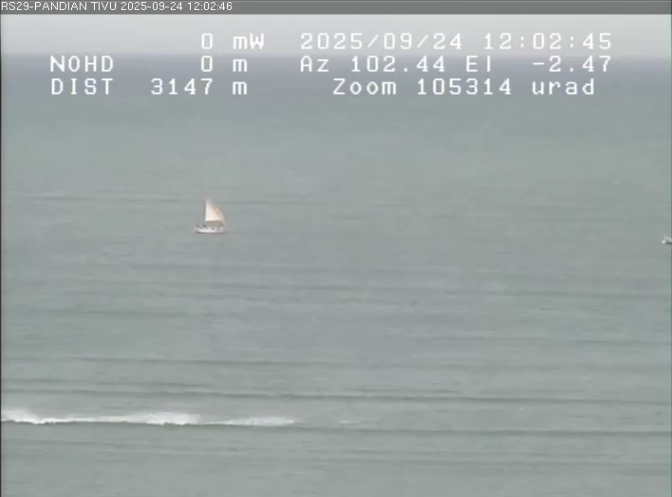SAIL_BOAT: (187, 191, 249, 238)
